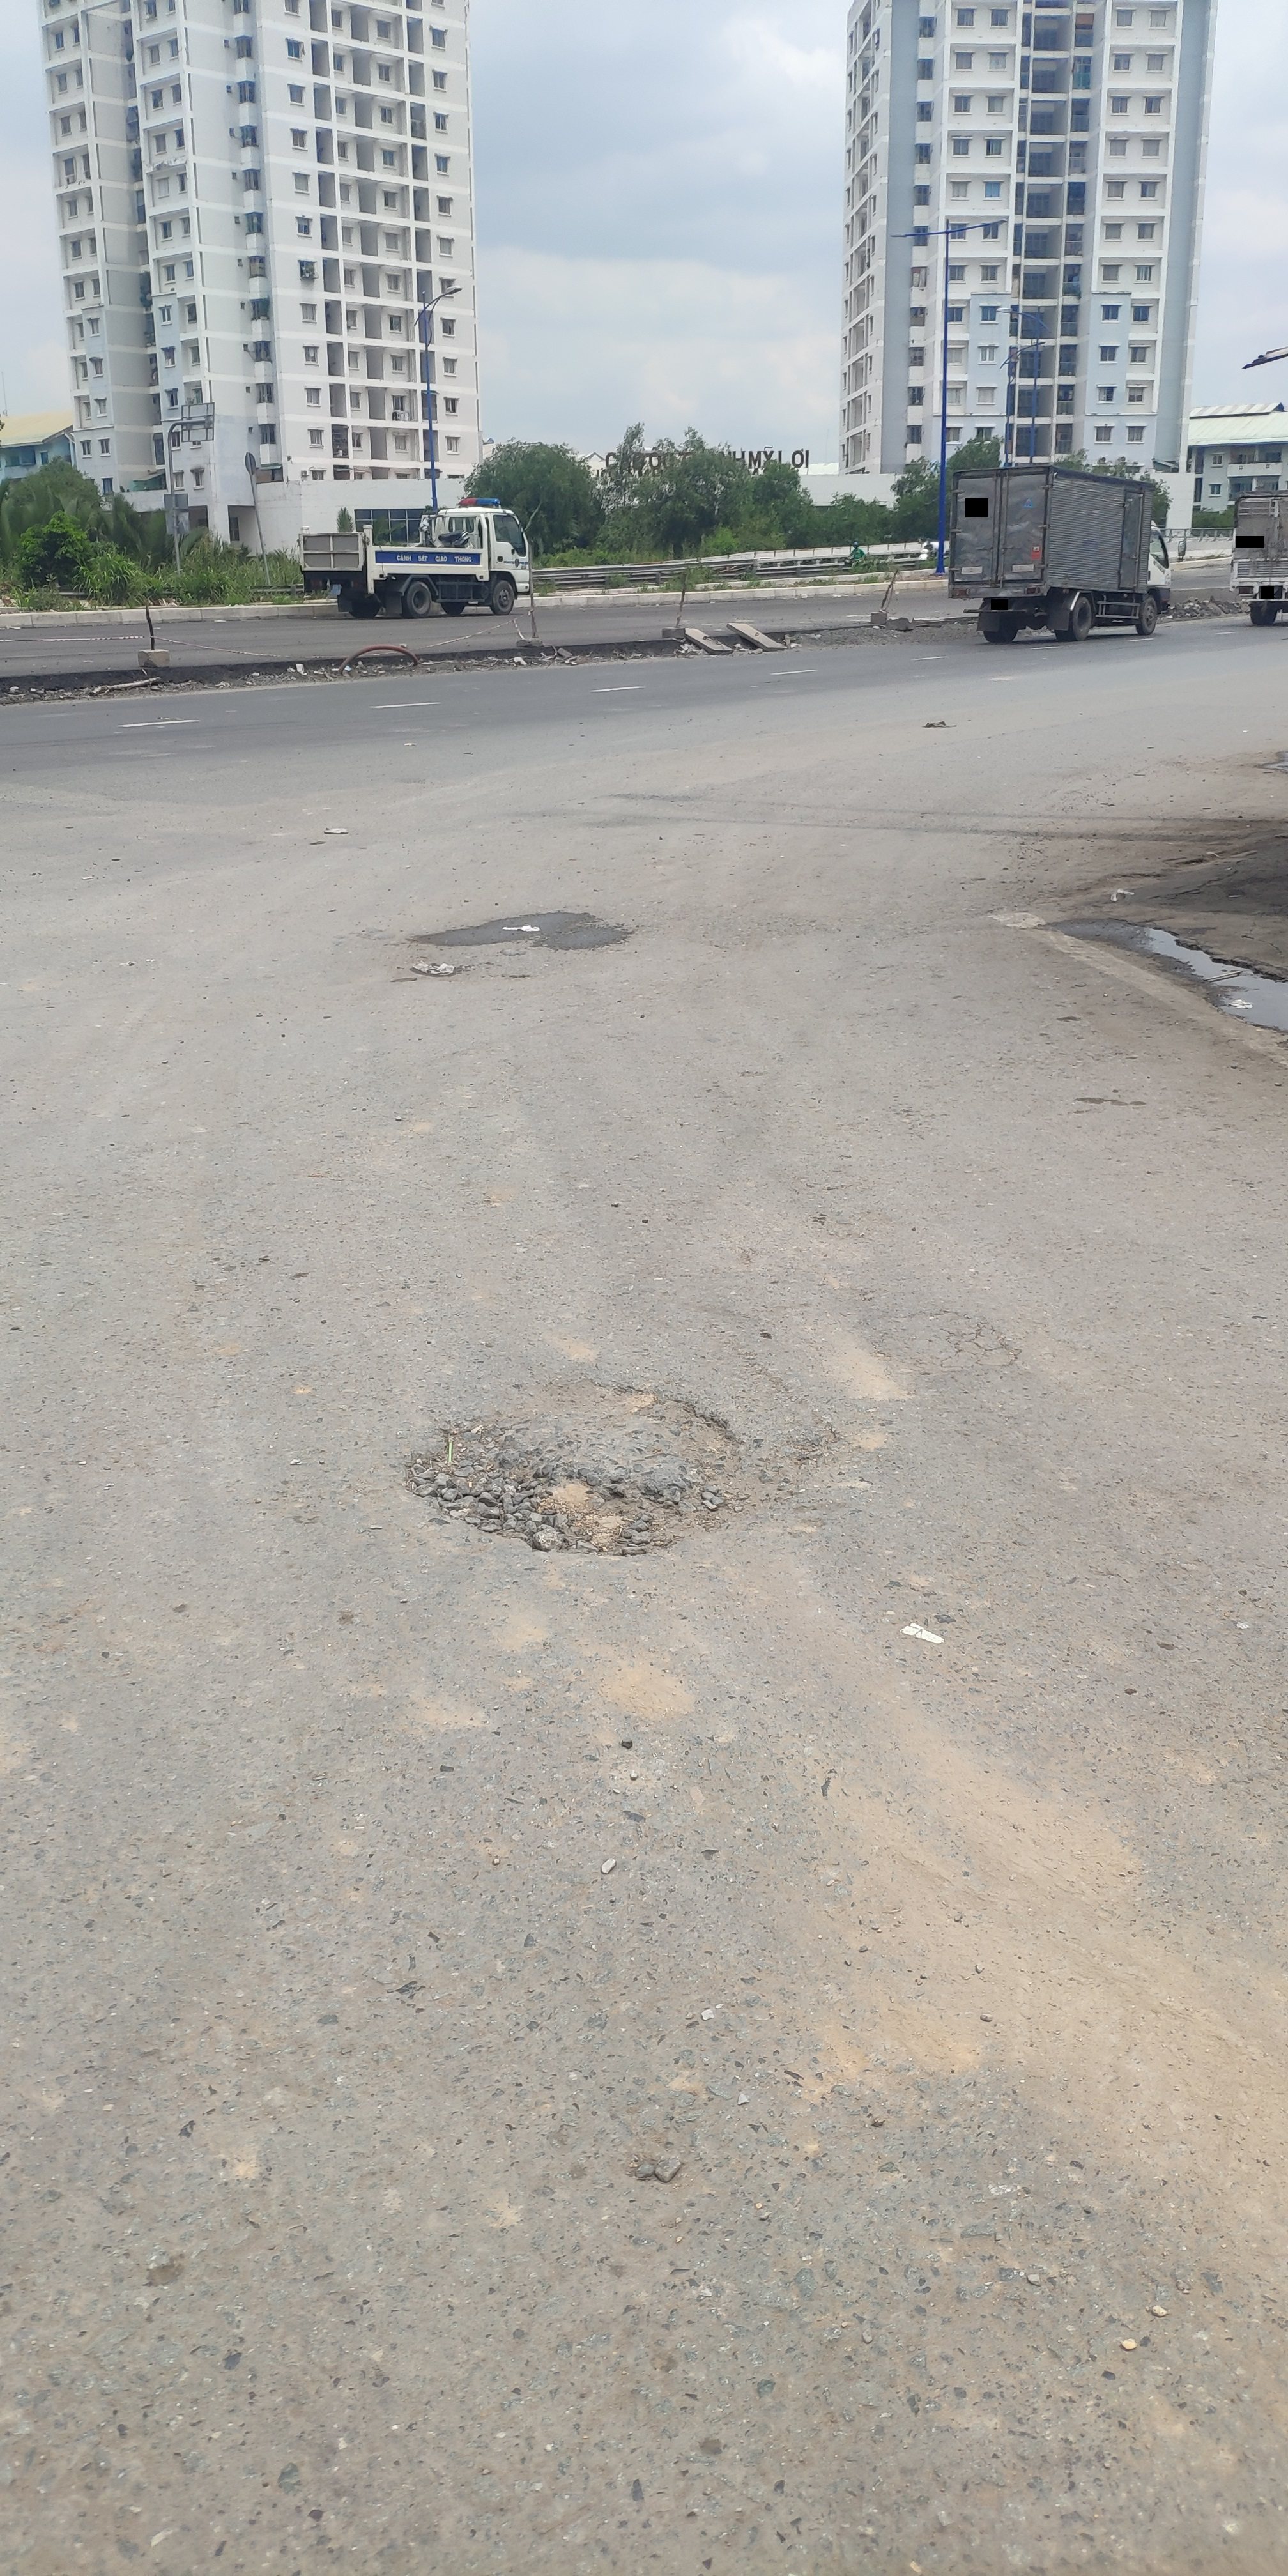hole: (421, 1364, 728, 1567), (409, 907, 628, 951)
